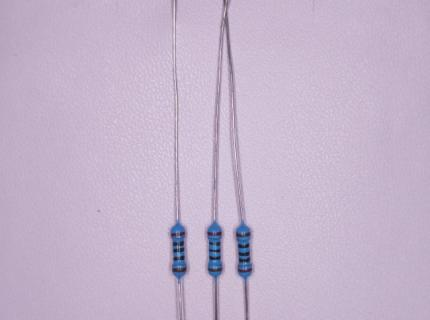Black band: (173, 247, 185, 254), (173, 255, 185, 261), (238, 252, 251, 257), (209, 248, 221, 253), (239, 258, 251, 263), (238, 243, 250, 248), (172, 241, 184, 246), (209, 241, 220, 246), (209, 256, 221, 260)
Brown band: (172, 267, 187, 272), (208, 267, 223, 272), (236, 232, 251, 237)
Red band: (170, 231, 185, 237), (238, 268, 253, 273), (207, 232, 222, 236)
